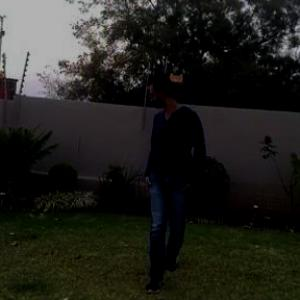follow: (134, 68, 210, 298)
